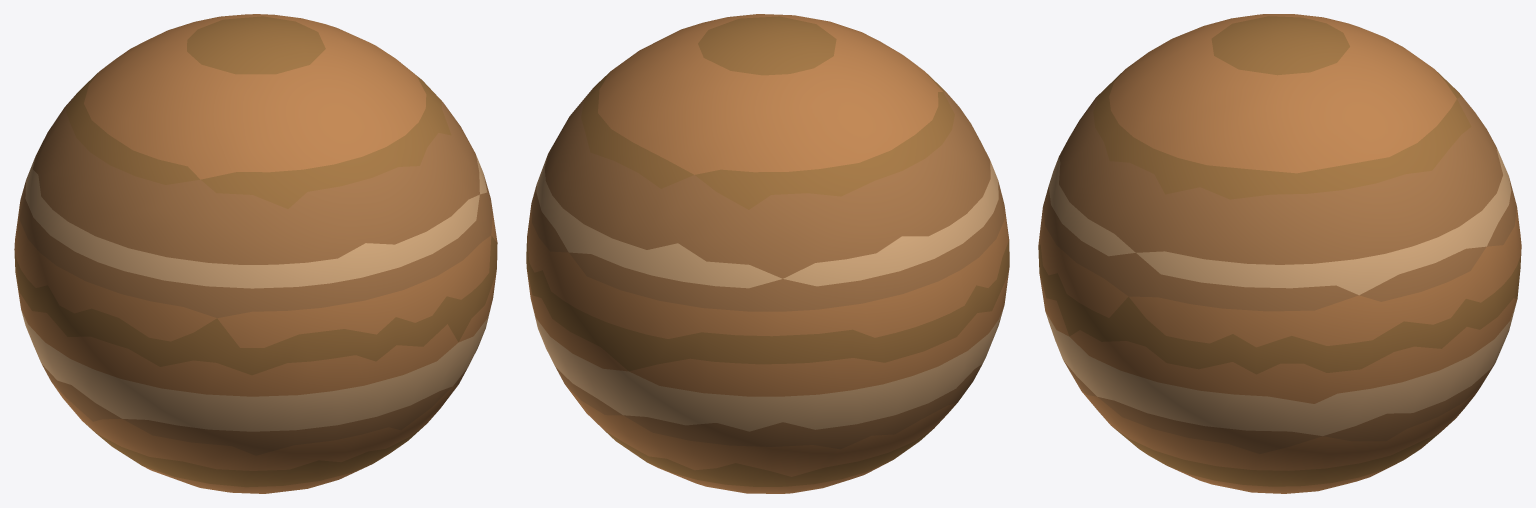
The model's file is q-planet-lvnmaulgwx.glb.
3 views of the same model, side by side, from view 1: azimuth 30°, elevation 25°; view 2: azimuth 150°, elevation 25°; view 3: azimuth 270°, elevation 25° (orthographic).
Parts seen in each view (by area): view 1: Planet_6; view 2: Planet_6; view 3: Planet_6.
Boxes of the visible parts, bbox=[...] form: Planet_6: bbox=[14, 14, 497, 493]; Planet_6: bbox=[526, 14, 1009, 493]; Planet_6: bbox=[1038, 14, 1521, 493].
Size of the model in its own units: 3.76 by 3.75 by 3.76.
Materials: 1 (1 with a texture image).
